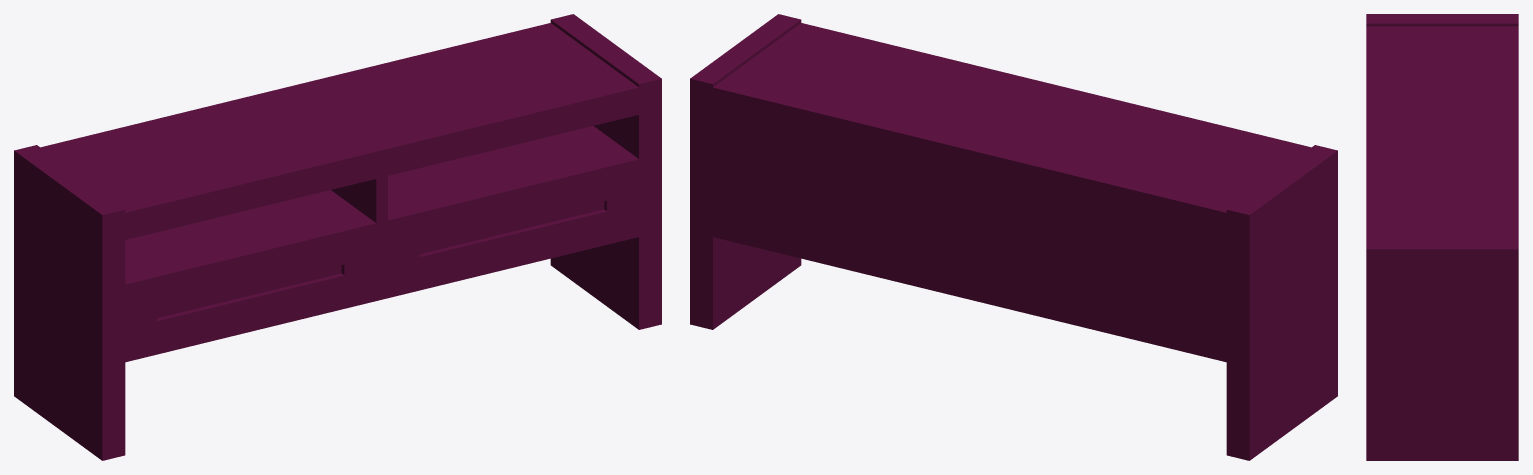
Rendered from TV_fourniture.FBX.
The picture shows the model from 3 angles, left to right: view 1: azimuth 30°, elevation 25°; view 2: azimuth 150°, elevation 25°; view 3: azimuth 270°, elevation 25°; orthographic projection. The views are drawn at different scales.
Visible parts, largest first — view 1: Box046; view 2: Box046; view 3: Box046.
Boxes of the visible parts, bbox=[...] form: Box046: bbox=[14, 14, 661, 460]; Box046: bbox=[690, 14, 1337, 460]; Box046: bbox=[1366, 14, 1518, 460].
Size of the model in its own units: 215 by 90.09 by 58.71.
